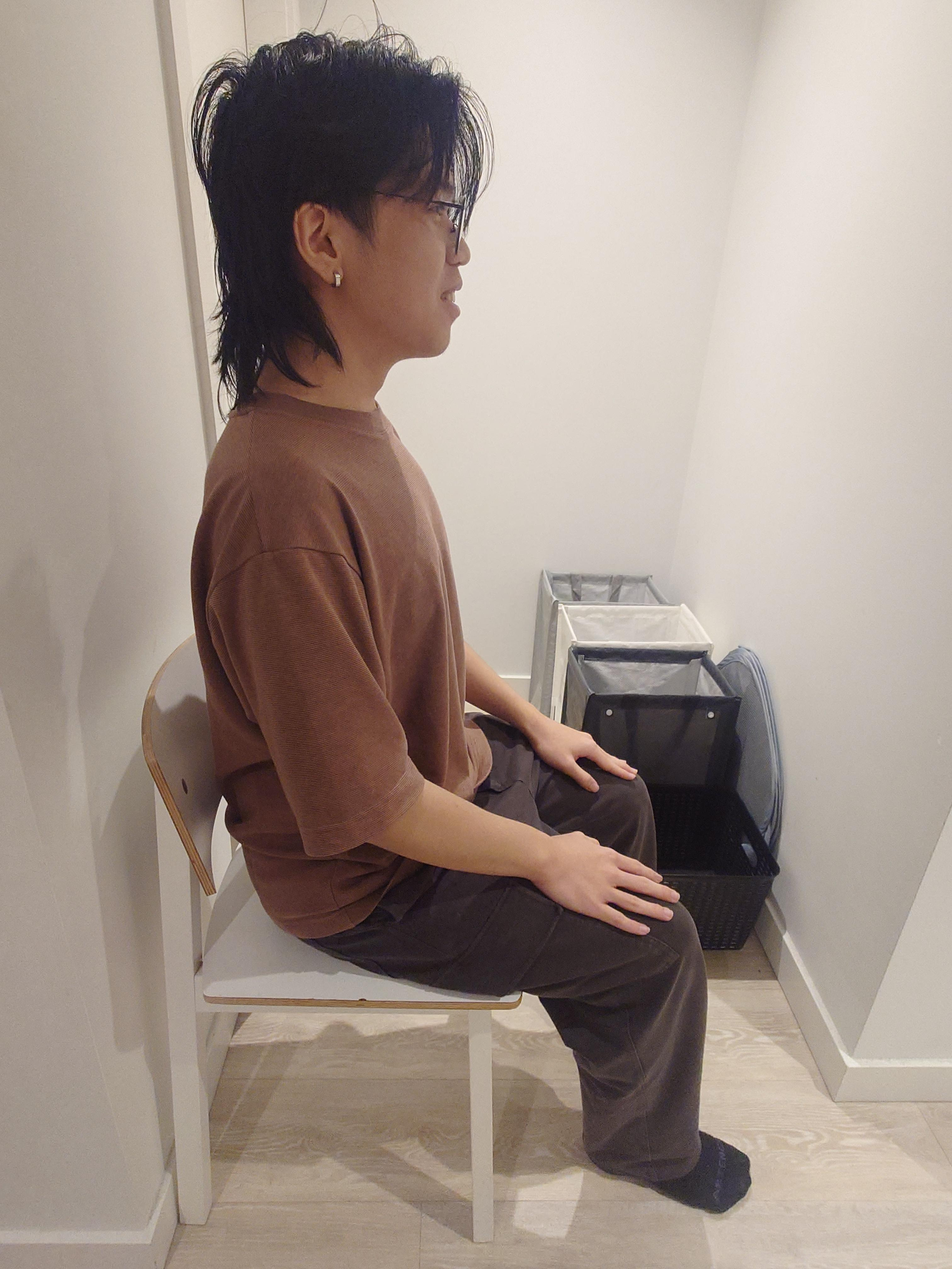GoodPosture: (188, 33, 752, 1214)
